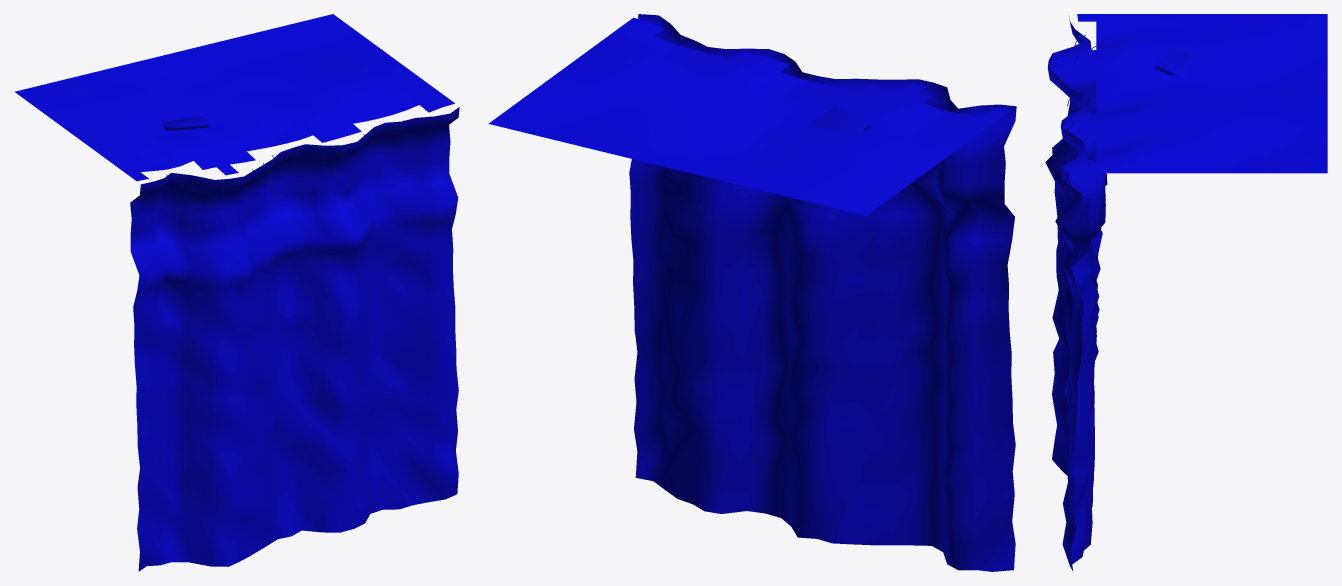
The model's file is seafloor_edge.glb.
The picture shows the model from 3 angles, left to right: view 1: azimuth 30°, elevation 25°; view 2: azimuth 150°, elevation 25°; view 3: azimuth 270°, elevation 25°; orthographic projection. The views are drawn at different scales.
Parts seen in each view (by area): view 1: seafloor_edge; view 2: seafloor_edge; view 3: seafloor_edge.
Boxes of the visible parts, left/top/right/bottom form: seafloor_edge: left=14, top=14, right=459, bottom=571; seafloor_edge: left=488, top=14, right=1016, bottom=571; seafloor_edge: left=1045, top=14, right=1327, bottom=571.
Size of what is drawn, in the model's own units: 12 by 14.45 by 8.99.
